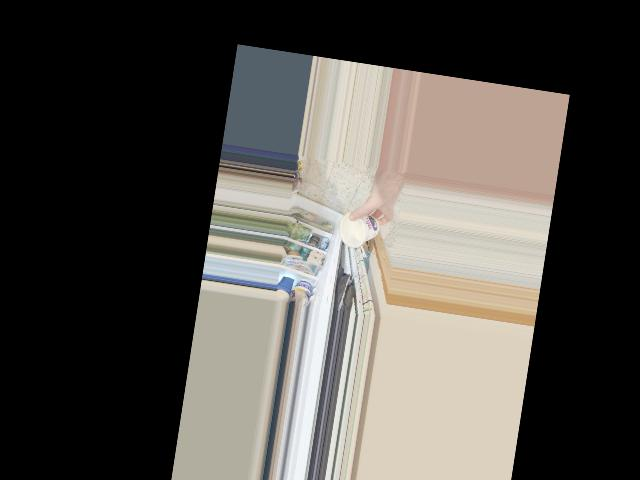cotage: (336, 205, 385, 252)
